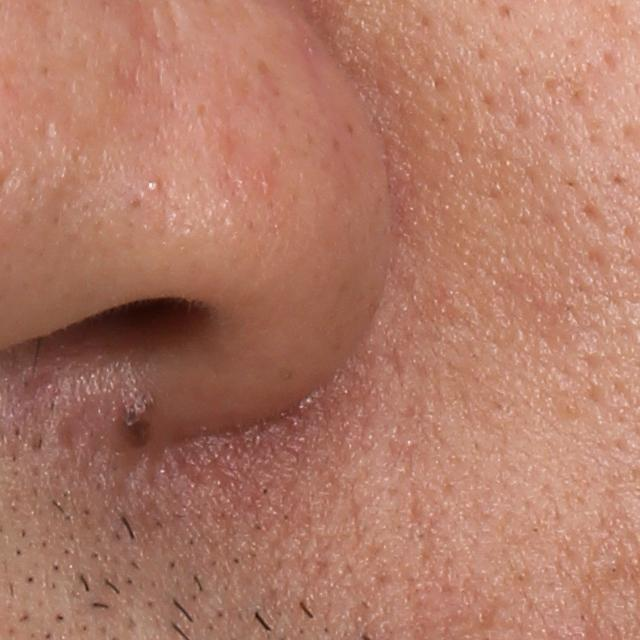comedo: (145, 176, 161, 195)
nevus: (111, 383, 181, 450)
